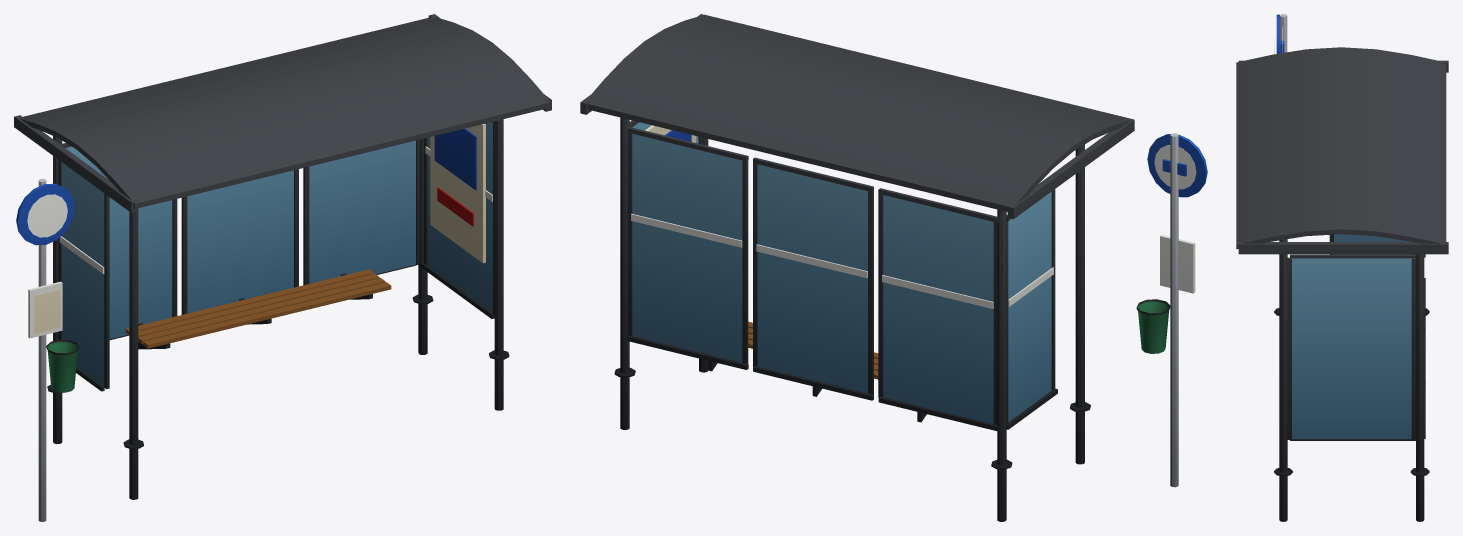
Rendered from BusStop.fbx.
The picture shows the model from 3 angles, left to right: view 1: azimuth 30°, elevation 25°; view 2: azimuth 150°, elevation 25°; view 3: azimuth 270°, elevation 25°; orthographic projection. The views are drawn at different scales.
Parts seen in each view (by area): view 1: BusStop_LOD0; view 2: BusStop_LOD0; view 3: BusStop_LOD0.
Boxes of the visible parts, x1=… form: BusStop_LOD0: x1=14, y1=14, x2=551, y2=521; BusStop_LOD0: x1=580, y1=14, x2=1207, y2=521; BusStop_LOD0: x1=1236, y1=14, x2=1448, y2=521.
Size of what is drawn, in the model's own units: 5.05 by 3.2 by 2.02.
1 material, 1 textured.
